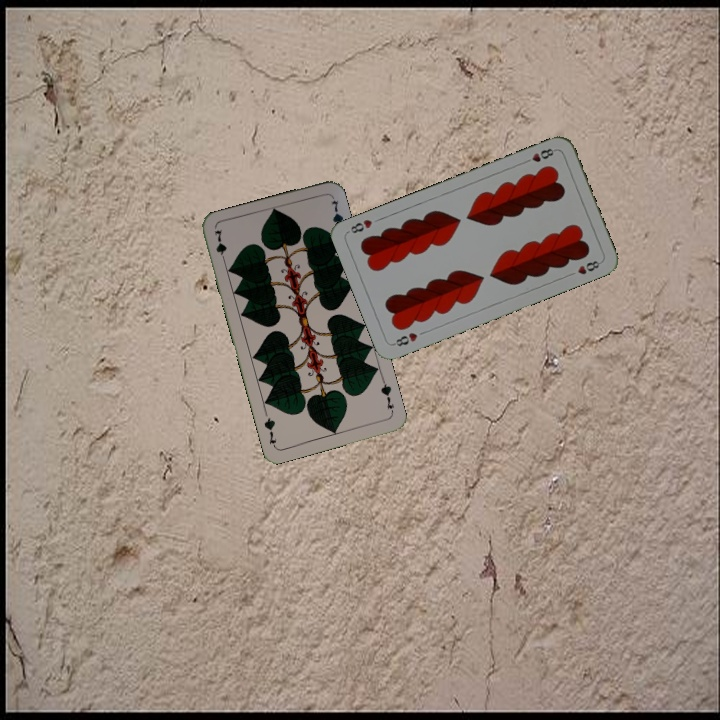G7: (377, 376, 397, 416), (210, 226, 229, 266)
H8: (520, 144, 558, 166), (389, 328, 420, 349)
